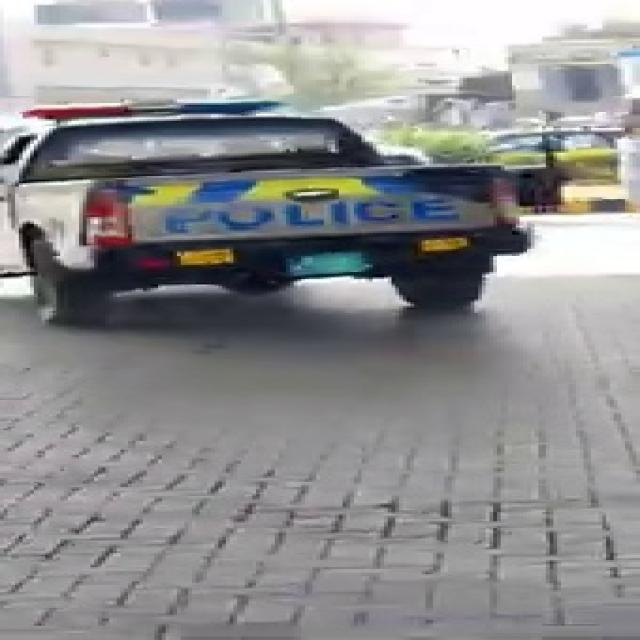police: (0, 0, 553, 312)
